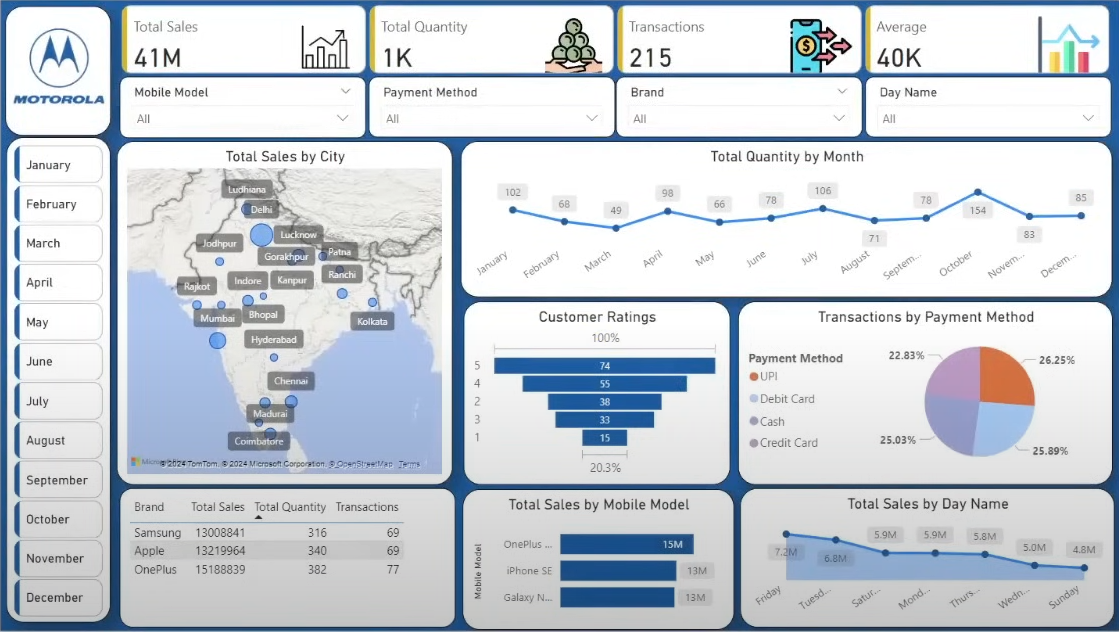

Layout of this report page (visuals, bound fields, positions):
{"tool":"powerbi","page":{"name":"Page 1","canvas":[1280,720],"ordinal":0},"visuals":[{"type":"shape","box":[5.5,6.9,120.8,148.2],"z":0},{"type":"image","box":[9.6,16.5,113.9,116.6],"z":1000},{"type":"shape","box":[6.9,156.4,119.4,554.4],"z":2000},{"type":"advancedSlicerVisual","fields":{"Values":["Sales_Data.Date.Variation.Date Hierarchy.Month"]},"box":[11,160.5,111.1,548.9],"z":3000},{"type":"cardVisual","fields":{"Data":["Sales_Data.Total Sales","Sales_Data.Total Quantity","Sales_Data.Transactions","Sales_Data.Average"]},"box":[134,5.6,1140.1,83.7],"z":4000},{"type":"map","fields":{"Category":["Sales_Data.City"],"Size":["Sales_Data.Total Sales"]},"box":[132.9,160.8,384.1,393.1],"z":5000},{"type":"lineChart","fields":{"Y":["Sales_Data.Total Quantity"],"Category":["Sales_Data.Date.Variation.Date Hierarchy.Month","Sales_Data.Date.Variation.Date Hierarchy.Day"]},"box":[525.9,160.8,744.8,178.7],"z":6000},{"type":"clusteredBarChart","fields":{"Category":["Sales_Data.Mobile Model"],"Y":["Sales_Data.Total Sales"]},"box":[528.3,558.5,310.1,160.5],"z":7000},{"type":"pieChart","fields":{"Category":["Sales_Data.Payment Method"],"Y":["Sales_Data.Transactions"]},"box":[842.5,344.4,428.1,209.9],"z":8000},{"type":"funnel","title":"Customer Ratings","fields":{"Category":["Sales_Data.Customer Ratings"],"Y":["Sum(Sales_Data.Customer Ratings)"]},"box":[529.7,344.4,304.6,209.9],"z":9000},{"type":"areaChart","fields":{"Category":["Sales_Data.Day Name"],"Y":["Sales_Data.Total Sales"]},"box":[845.3,557.1,428.1,159.2],"z":10000},{"type":"tableEx","fields":{"Values":["Sales_Data.Brand","Sales_Data.Total Sales","Sales_Data.Total Quantity","Sales_Data.Transactions"]},"box":[135.8,557.1,384.2,159.2],"z":11000},{"type":"slicer","fields":{"Values":["Sales_Data.Mobile Model"]},"box":[136.2,87.1,281.4,70.3],"z":12000},{"type":"slicer","fields":{"Values":["Sales_Data.Payment Method"]},"box":[421,87.1,281.4,69.2],"z":13000},{"type":"slicer","fields":{"Values":["Sales_Data.Brand"]},"box":[703.5,87.1,281.4,69.2],"z":14000},{"type":"slicer","fields":{"Values":["Sales_Data.Day Name"]},"box":[988.2,87.1,281.4,69.2],"z":15000}]}

Visuals, with their boxes in screenshot pixels (x1, y1, x2, y2), scaled from the page's 1280x720 canvas onto the 1119x632 screenshot:
shape: (left=5, top=6, right=110, bottom=136)
image: (left=8, top=14, right=108, bottom=117)
shape: (left=6, top=137, right=110, bottom=624)
advancedSlicerVisual - Sales_Data.Date.Variation.Date Hierarchy.Month: (left=10, top=141, right=107, bottom=623)
cardVisual - Sales_Data.Total Sales x Sales_Data.Total Quantity: (left=117, top=5, right=1114, bottom=78)
map - Sales_Data.City x Sales_Data.Total Sales: (left=116, top=141, right=452, bottom=486)
lineChart - Sales_Data.Total Quantity x Sales_Data.Date.Variation.Date Hierarchy.Month: (left=460, top=141, right=1111, bottom=298)
clusteredBarChart - Sales_Data.Mobile Model x Sales_Data.Total Sales: (left=462, top=490, right=733, bottom=631)
pieChart - Sales_Data.Payment Method x Sales_Data.Transactions: (left=737, top=302, right=1111, bottom=487)
"Customer Ratings" funnel: (left=463, top=302, right=729, bottom=487)
areaChart - Sales_Data.Day Name x Sales_Data.Total Sales: (left=739, top=489, right=1113, bottom=629)
tableEx - Sales_Data.Brand x Sales_Data.Total Sales: (left=119, top=489, right=455, bottom=629)
slicer - Sales_Data.Mobile Model: (left=119, top=76, right=365, bottom=138)
slicer - Sales_Data.Payment Method: (left=368, top=76, right=614, bottom=137)
slicer - Sales_Data.Brand: (left=615, top=76, right=861, bottom=137)
slicer - Sales_Data.Day Name: (left=864, top=76, right=1110, bottom=137)
